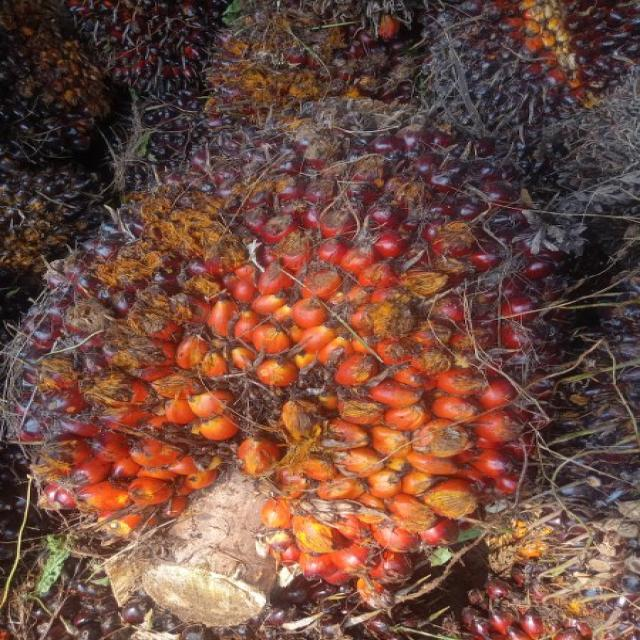fraksi 3: (0, 68, 580, 618)
